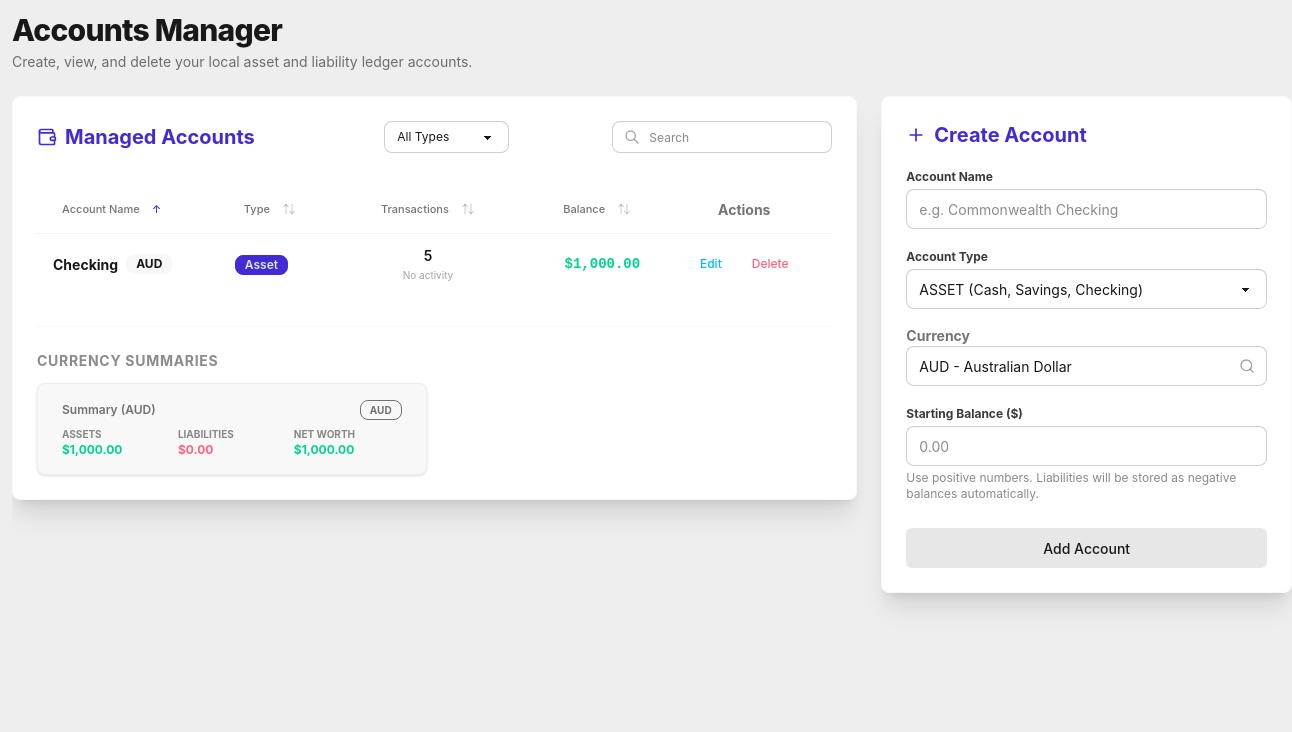
Test: AccountsClient — account list rendering › shows noResults when search returns empty
// Type in the search box
Type "NonexistentXYZ" into the field with placeholder "Search". click: (722, 137)
box: [612,121,832,153]
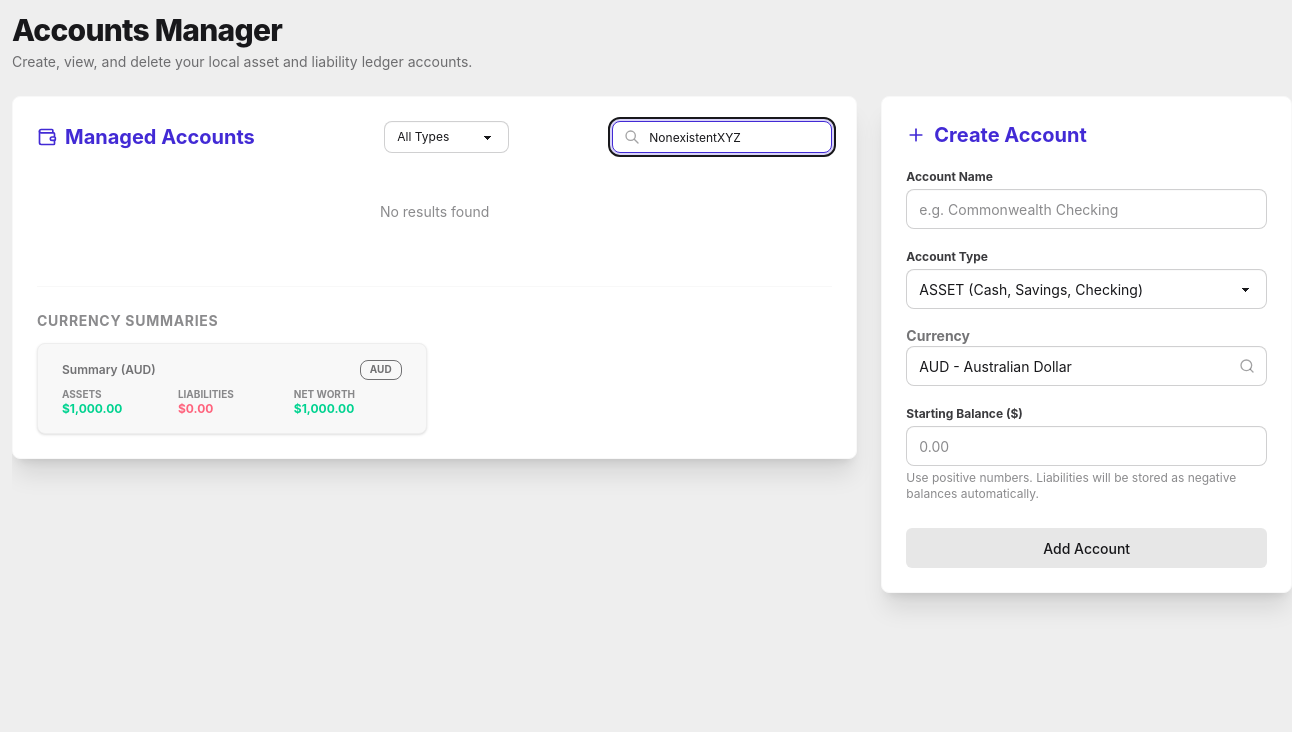
Now the text "No results found" is shown, box [380,203,489,220]
